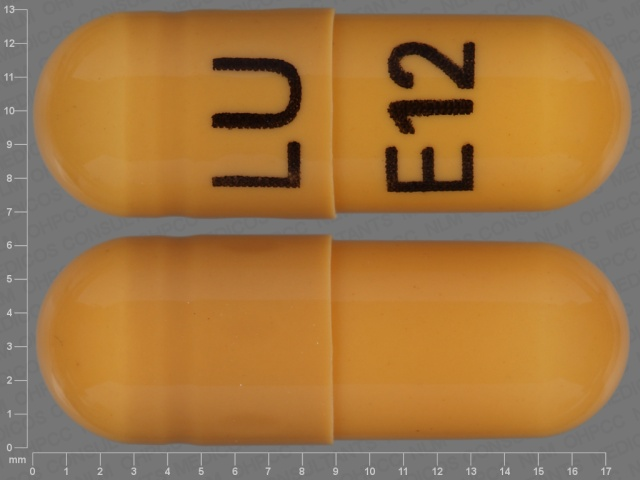capsule: (34, 230, 630, 446), (33, 7, 632, 219)
